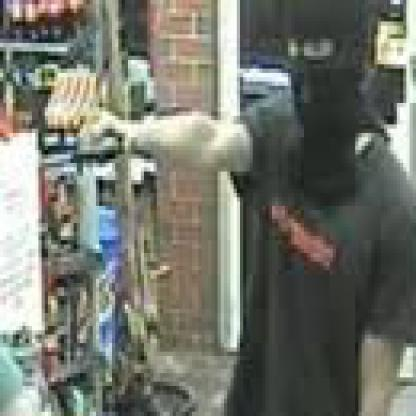gun: (67, 107, 131, 184)
